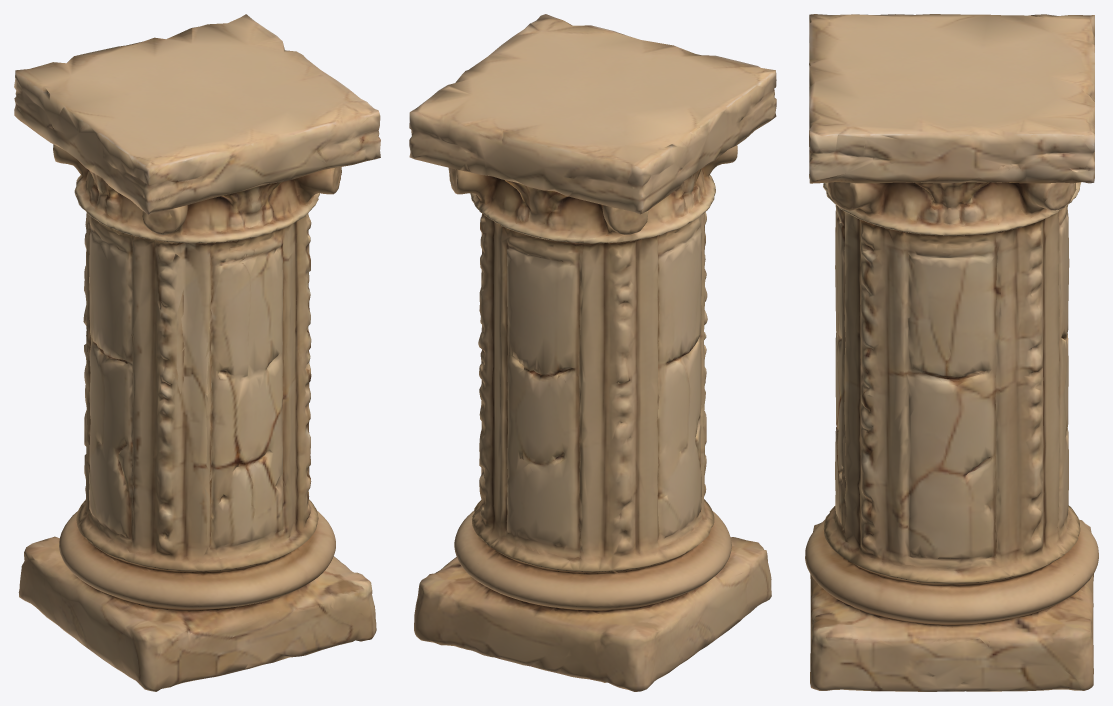
File: base_basic_pbr.glb
The picture shows the model from 3 angles, left to right: view 1: azimuth 30°, elevation 25°; view 2: azimuth 150°, elevation 25°; view 3: azimuth 270°, elevation 25°; orthographic projection. The views are drawn at different scales.
Visible parts, largest first — view 1: model; view 2: model; view 3: model.
Boxes of the visible parts, x1=… form: model: x1=14, y1=14, x2=380, y2=691; model: x1=409, y1=14, x2=776, y2=691; model: x1=805, y1=14, x2=1098, y2=691.
Size of the model in its own units: 0.9071 by 1.9 by 0.9063.
Materials: 1 (1 with a texture image).
